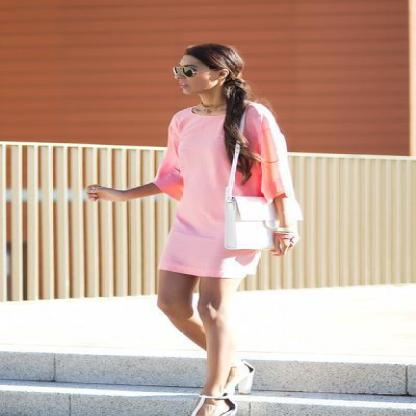bag: (221, 175, 288, 257)
dress: (140, 107, 287, 278)
shoe: (186, 391, 236, 415)
sunglass: (182, 58, 211, 77)
